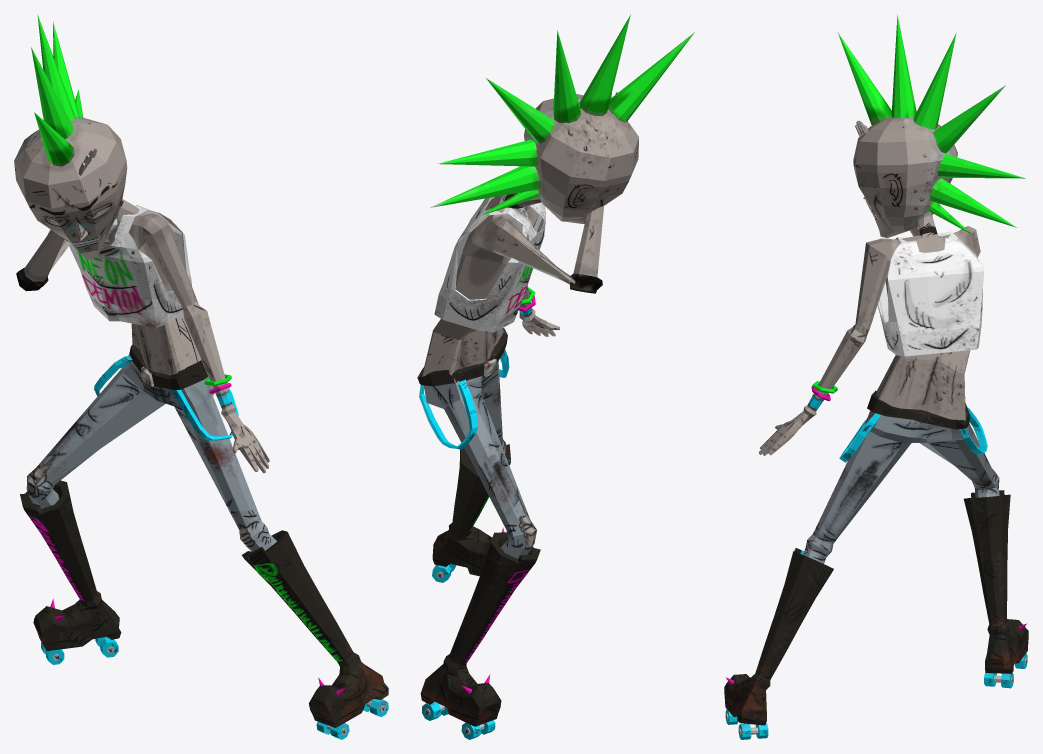
File: punkAnimation_000031.obj
3 renders of one model, left to right at view 1: azimuth 30°, elevation 25°; view 2: azimuth 150°, elevation 25°; view 3: azimuth 270°, elevation 25°, orthographic. The views are drawn at different scales.
Visible parts, largest first — view 1: Cube.004_Cube.003; view 2: Cube.004_Cube.003; view 3: Cube.004_Cube.003.
Boxes of the visible parts, x1,y1,x2,y2 form: Cube.004_Cube.003: (14, 15, 388, 739); Cube.004_Cube.003: (417, 14, 694, 739); Cube.004_Cube.003: (724, 14, 1028, 739).
Size of the model in its own units: 3.13 by 6.72 by 3.01.
